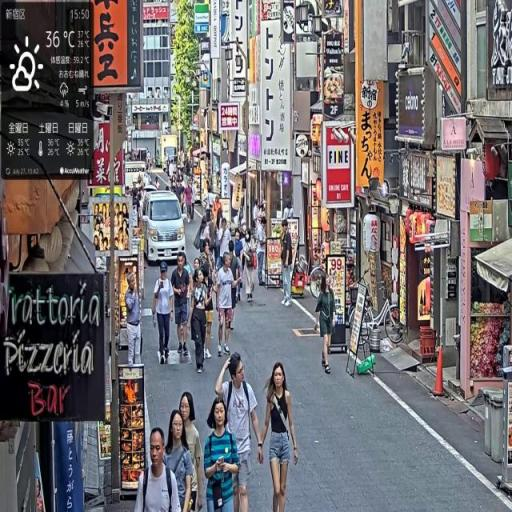person: (218, 353, 266, 512), (255, 361, 301, 512), (203, 400, 243, 512), (137, 425, 184, 511), (164, 407, 197, 512), (180, 391, 206, 512), (190, 268, 214, 376), (216, 252, 239, 359), (153, 260, 176, 365), (172, 251, 193, 365), (315, 273, 337, 373), (125, 272, 143, 369), (281, 219, 295, 308), (255, 214, 269, 288)
